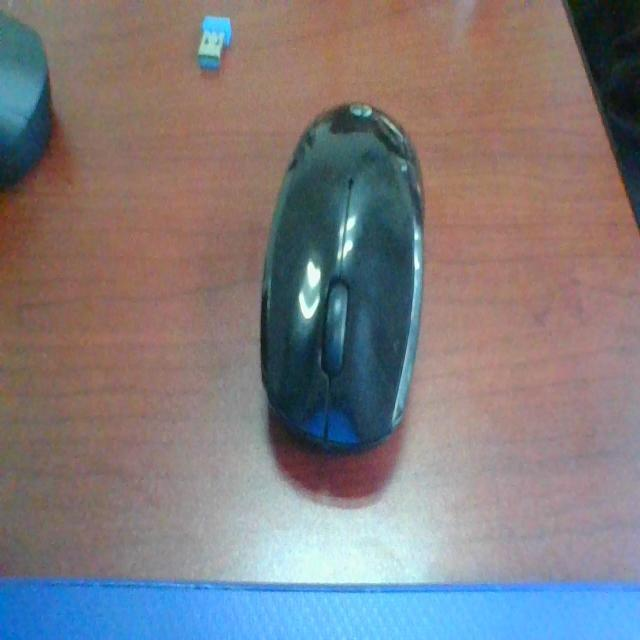mouse: (252, 105, 446, 485)
